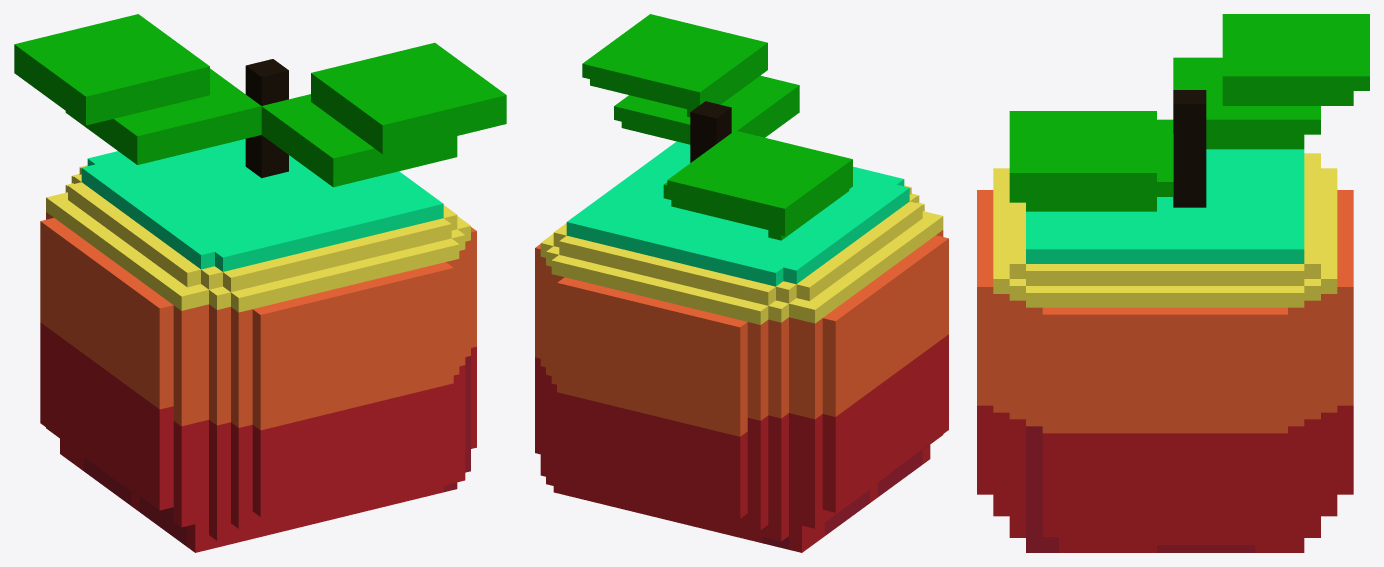
The model's file is wumpa_optimizada.obj.
The picture shows the model from 3 angles, left to right: view 1: azimuth 30°, elevation 25°; view 2: azimuth 150°, elevation 25°; view 3: azimuth 270°, elevation 25°; orthographic projection. The views are drawn at different scales.
Parts seen in each view (by area): view 1: wumpa; view 2: wumpa; view 3: wumpa.
Boxes of the visible parts, <box> form: wumpa: <box>14,14,506,552</box>; wumpa: <box>535,14,948,552</box>; wumpa: <box>977,14,1369,552</box>.
Size of the model in its own units: 7.75 by 8.72 by 7.75.
1 material, 1 textured.
